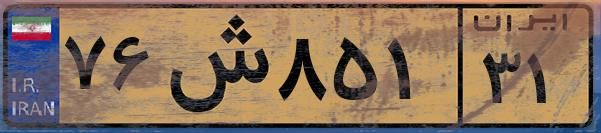1: (385, 28, 445, 110), (525, 38, 570, 115)
3: (475, 38, 525, 113)
5: (330, 28, 385, 110)
6: (110, 28, 158, 98)
7: (57, 26, 110, 100)
8: (270, 28, 330, 110)
ش: (158, 12, 270, 120)
